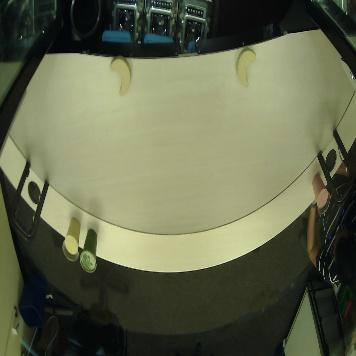full_cup: (81, 228, 98, 273), (62, 216, 79, 261), (313, 172, 331, 212)
puck: (109, 55, 132, 95), (234, 48, 257, 88)
